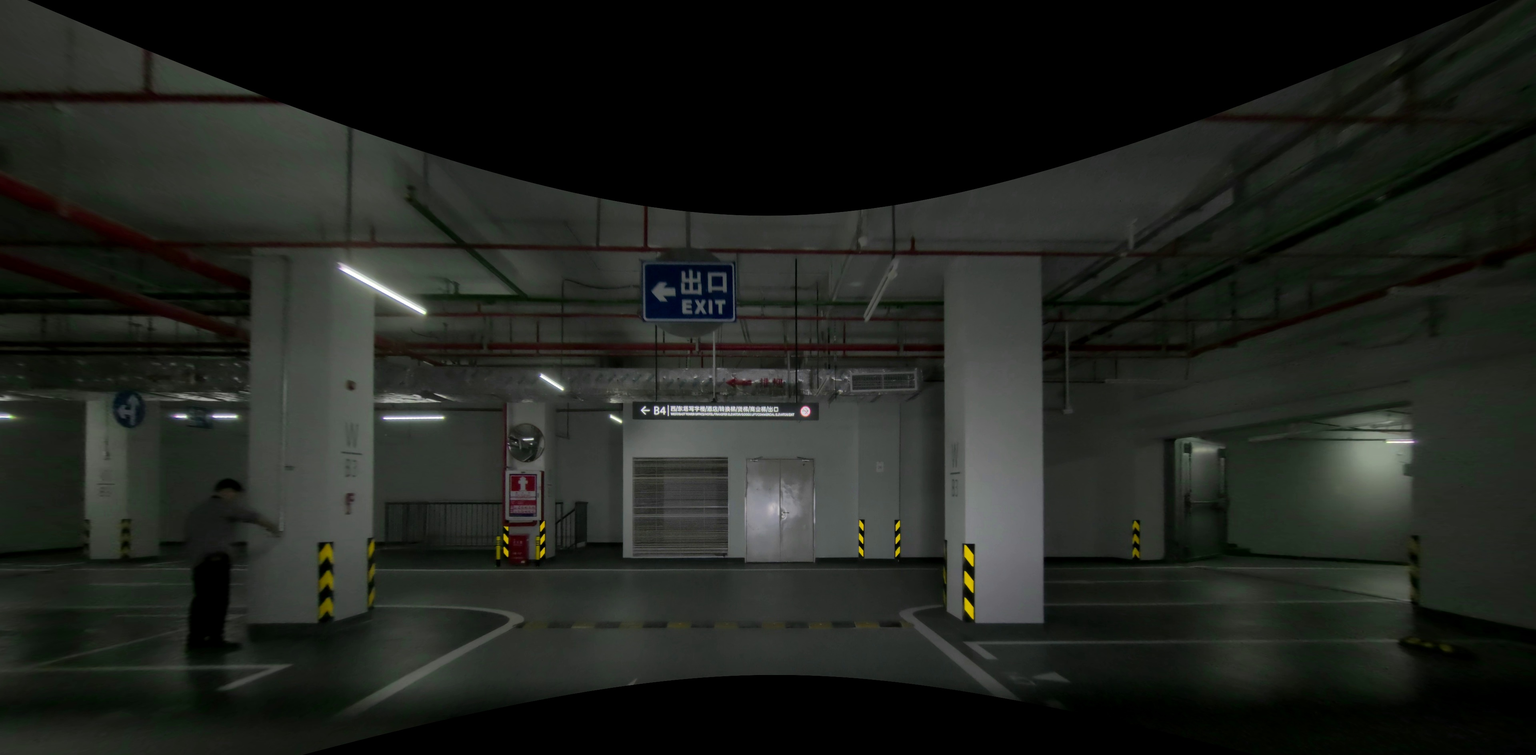B3: (341, 459, 358, 478), (949, 479, 960, 498)
B4: (652, 404, 667, 415)
EXIT: (679, 298, 728, 317)
F: (342, 491, 358, 514)
W: (341, 422, 362, 448), (947, 445, 961, 471)
上: (128, 395, 140, 423)
出口: (676, 269, 726, 294)
左: (646, 280, 676, 305), (116, 405, 129, 419), (639, 403, 650, 415)
左上: (112, 392, 146, 428)
禁止右转: (800, 405, 810, 417)
西/东塔写字楼/酒店/转换梯/货梯/商业梯/出口: (670, 405, 778, 412)
